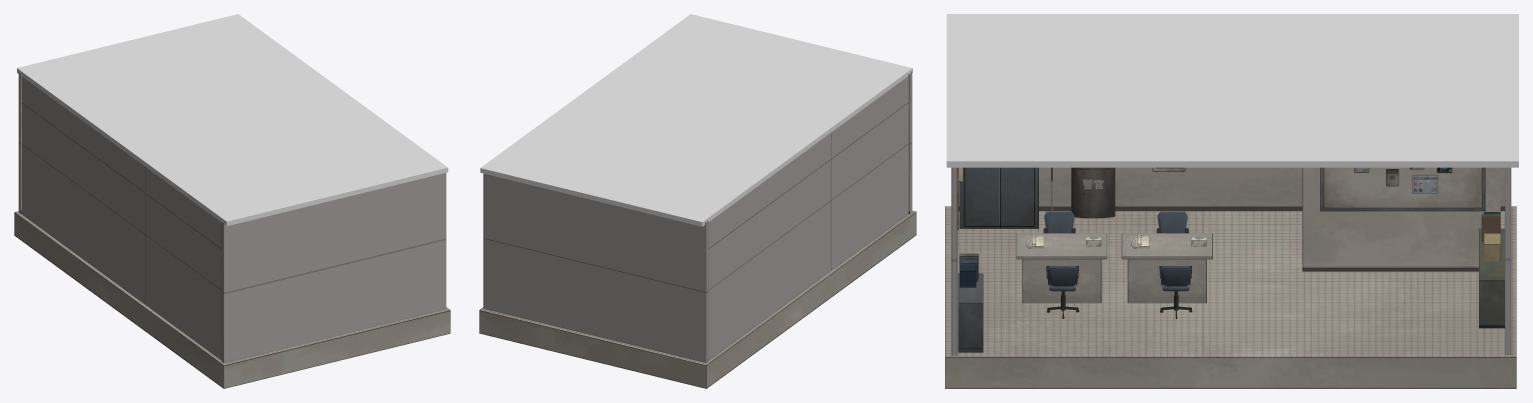
Rendered from _room police04.fbx.
3 renders of one model, left to right at view 1: azimuth 30°, elevation 25°; view 2: azimuth 150°, elevation 25°; view 3: azimuth 270°, elevation 25°, orthographic. The views are drawn at different scales.
Parts seen in each view (by area): view 1: Cube.235, Cube.043, Cube.042, Cube.028, Cube.044; view 2: Cube.235, Cube.044, Cube.042, Cube.028, Cube.043; view 3: Cube.235, Cube.028, Cube.253, Cube.042, Cube.250, Cube.255, Cube.002, Cube.238, Cube.007, Cube.252, Cube.249, Cube.043 (+6 smaller).
Boxes of the visible parts, left/top/right/bottom form: Cube.235: left=17, top=14, right=448, bottom=225; Cube.043: left=221, top=173, right=446, bottom=363; Cube.042: left=22, top=76, right=221, bottom=360; Cube.028: left=14, top=211, right=450, bottom=388; Cube.044: left=18, top=72, right=21, bottom=213; Cube.235: left=480, top=14, right=912, bottom=226; Cube.044: left=483, top=173, right=708, bottom=362; Cube.042: left=708, top=76, right=908, bottom=360; Cube.028: left=479, top=210, right=916, bottom=388; Cube.043: left=908, top=72, right=912, bottom=214; Cube.235: left=946, top=14, right=1518, bottom=167; Cube.028: left=945, top=206, right=1516, bottom=388; Cube.253: left=1302, top=167, right=1500, bottom=271; Cube.042: left=958, top=167, right=1504, bottom=211; Cube.250: left=1320, top=167, right=1485, bottom=211; Cube.255: left=1121, top=233, right=1212, bottom=303; Cube.002: left=1016, top=233, right=1107, bottom=303; Cube.238: left=959, top=167, right=1038, bottom=228; Cube.007: left=1071, top=167, right=1115, bottom=218; Cube.252: left=1479, top=228, right=1504, bottom=328; Cube.249: left=958, top=273, right=983, bottom=352; Cube.043: left=951, top=167, right=957, bottom=355.
Bounding box in the file's own units: 265 × 185 × 425.
